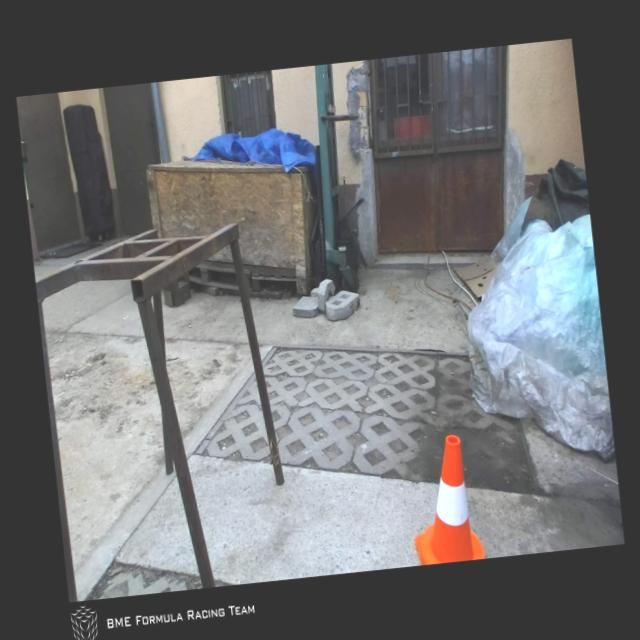orange_cone: (404, 432, 485, 566)
